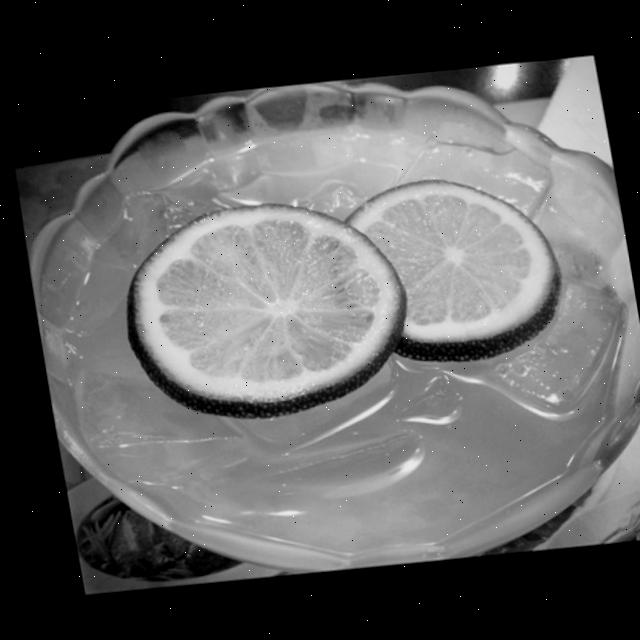蛋糕甜品: (10, 53, 640, 590)
